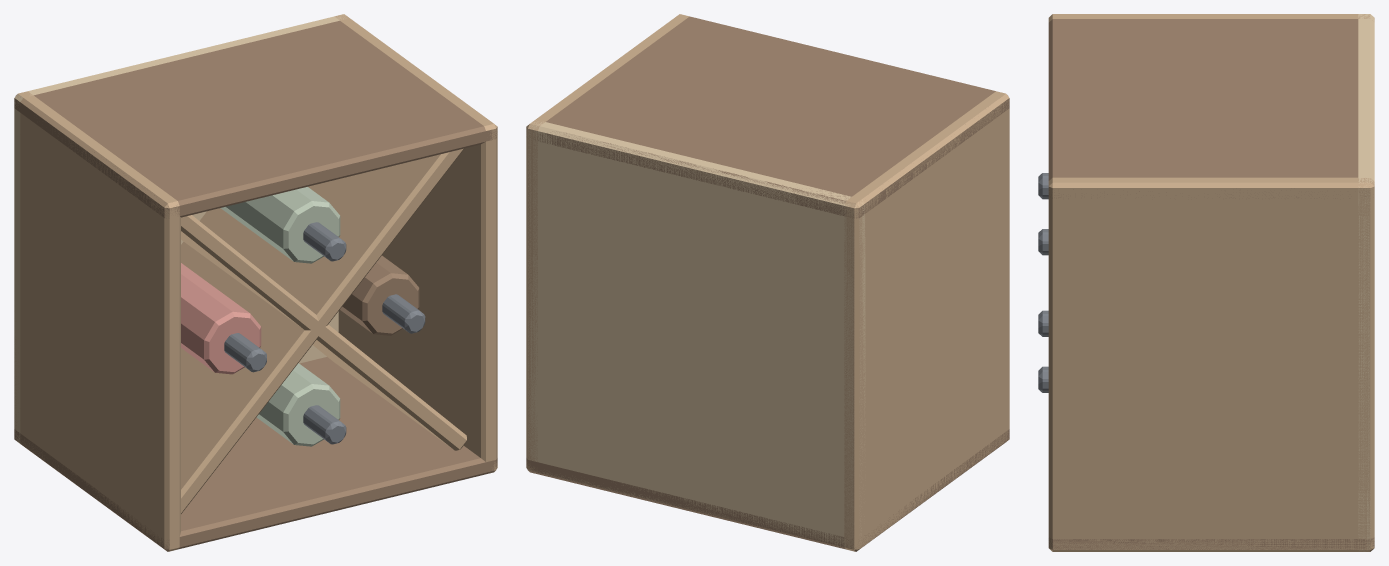
The model's file is WineRack_1x1.glb.
The picture shows the model from 3 angles, left to right: view 1: azimuth 30°, elevation 25°; view 2: azimuth 150°, elevation 25°; view 3: azimuth 270°, elevation 25°; orthographic projection. The views are drawn at different scales.
Parts seen in each view (by area): view 1: SpaceSaver_WallSys_WineRack_1x1; view 2: SpaceSaver_WallSys_WineRack_1x1; view 3: SpaceSaver_WallSys_WineRack_1x1.
Part boxes in pixels (bbox=[...]): SpaceSaver_WallSys_WineRack_1x1: bbox=[14, 14, 497, 551]; SpaceSaver_WallSys_WineRack_1x1: bbox=[526, 14, 1009, 551]; SpaceSaver_WallSys_WineRack_1x1: bbox=[1038, 14, 1374, 551].
Bounding box in the file's own units: 0.4 × 0.4 × 0.33.
